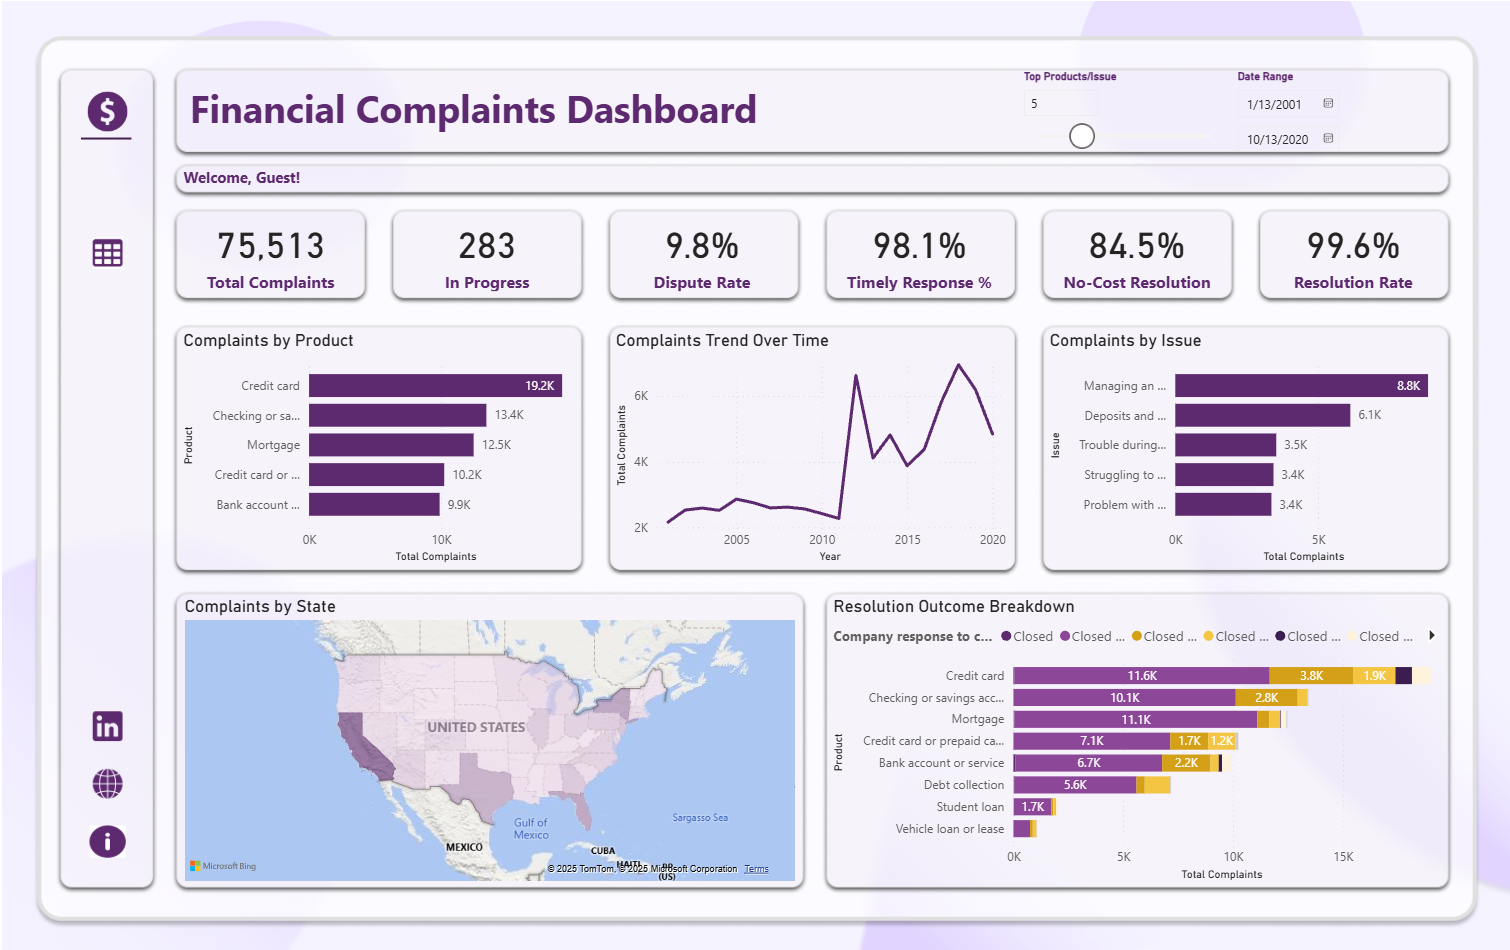

The page's visual inventory and layout, read from the dashboard file:
{"tool":"powerbi","page":{"name":"Page 1","canvas":[1280,720],"ordinal":0},"visuals":[{"type":"card","fields":{"Values":["CountNonNull(Financial Consumer Complaints.Complaint ID)"]},"box":[0,97,207,90],"z":0},{"type":"card","fields":{"Values":["Financial Consumer Complaints.Disputed Rate"]},"box":[213,97,207,90],"z":1000},{"type":"card","fields":{"Values":["Financial Consumer Complaints.In Progress"]},"box":[426,97,207,90],"z":2000},{"type":"card","fields":{"Values":["Financial Consumer Complaints.Timely Response %"]},"box":[639,97,210,90],"z":3000},{"type":"card","fields":{"Values":["Financial Consumer Complaints.Non-Monetary Relief"]},"box":[856,97,210,90],"z":4000},{"type":"card","fields":{"Values":["Financial Consumer Complaints.Resolution Rate"]},"box":[1072,97,208,90],"z":5000},{"type":"barChart","title":"Complaints by Product","fields":{"Category":["Financial Consumer Complaints.Product"],"Y":["Financial Consumer Complaints.TopN_Filter"]},"box":[0,193,420,255],"z":6000},{"type":"barChart","title":"Complaints by Issue","fields":{"Category":["Financial Consumer Complaints.Issue"],"Y":["Financial Consumer Complaints.TopN_Filter_Issue"]},"box":[865,193,415,255],"z":7000},{"type":"barChart","title":"Resolution Outcome Breakdown","fields":{"Y":["CountNonNull(Financial Consumer Complaints.Complaint ID)"],"Category":["Financial Consumer Complaints.Product"],"Series":["Financial Consumer Complaints.Company response to consumer"]},"box":[0,455,420,260],"z":8000},{"type":"lineChart","title":"Complaints Trend Over Time","fields":{"Y":["CountNonNull(Financial Consumer Complaints.Complaint ID)"],"Category":["Financial Consumer Complaints.Date Received.Variation.Date Hierarchy.Year"]},"box":[865,455,415,260],"z":9000},{"type":"textbox","box":[0,5,1280,85],"z":10000},{"type":"slicer","fields":{"Values":["Financial Consumer Complaints.Date Submitted"]},"box":[1070,7,210,80],"z":11000},{"type":"filledMap","title":"Complaints by State","fields":{"Category":["Financial Consumer Complaints.State"]},"box":[434,193,416,256],"z":12000},{"type":"donutChart","title":"Complaints by Submission Platform","fields":{"Category":["Financial Consumer Complaints.Submitted via"],"Y":["CountNonNull(Financial Consumer Complaints.Complaint ID)"]},"box":[434,455,416,260],"z":13000},{"type":"slicer","fields":{"Values":["Top Products/Issue.Top Products/Issue"]},"box":[860,7,210,80],"z":14000}]}

Visuals, with their boxes on the page's 1280x720 design canvas (x1, y1, x2, y2). These are canvas units, not pixel positions in the 1510x950 screenshot, which may show the page scaled, cropped or inside an application window:
card - CountNonNull(Financial Consumer Complaints.Complaint ID): <region>0, 97, 207, 187</region>
card - Financial Consumer Complaints.Disputed Rate: <region>213, 97, 420, 187</region>
card - Financial Consumer Complaints.In Progress: <region>426, 97, 633, 187</region>
card - Financial Consumer Complaints.Timely Response %: <region>639, 97, 849, 187</region>
card - Financial Consumer Complaints.Non-Monetary Relief: <region>856, 97, 1066, 187</region>
card - Financial Consumer Complaints.Resolution Rate: <region>1072, 97, 1280, 187</region>
"Complaints by Product" barChart: <region>0, 193, 420, 448</region>
"Complaints by Issue" barChart: <region>865, 193, 1280, 448</region>
"Resolution Outcome Breakdown" barChart: <region>0, 455, 420, 715</region>
"Complaints Trend Over Time" lineChart: <region>865, 455, 1280, 715</region>
textbox: <region>0, 5, 1280, 90</region>
slicer - Financial Consumer Complaints.Date Submitted: <region>1070, 7, 1280, 87</region>
"Complaints by State" filledMap: <region>434, 193, 850, 449</region>
"Complaints by Submission Platform" donutChart: <region>434, 455, 850, 715</region>
slicer - Top Products/Issue.Top Products/Issue: <region>860, 7, 1070, 87</region>
